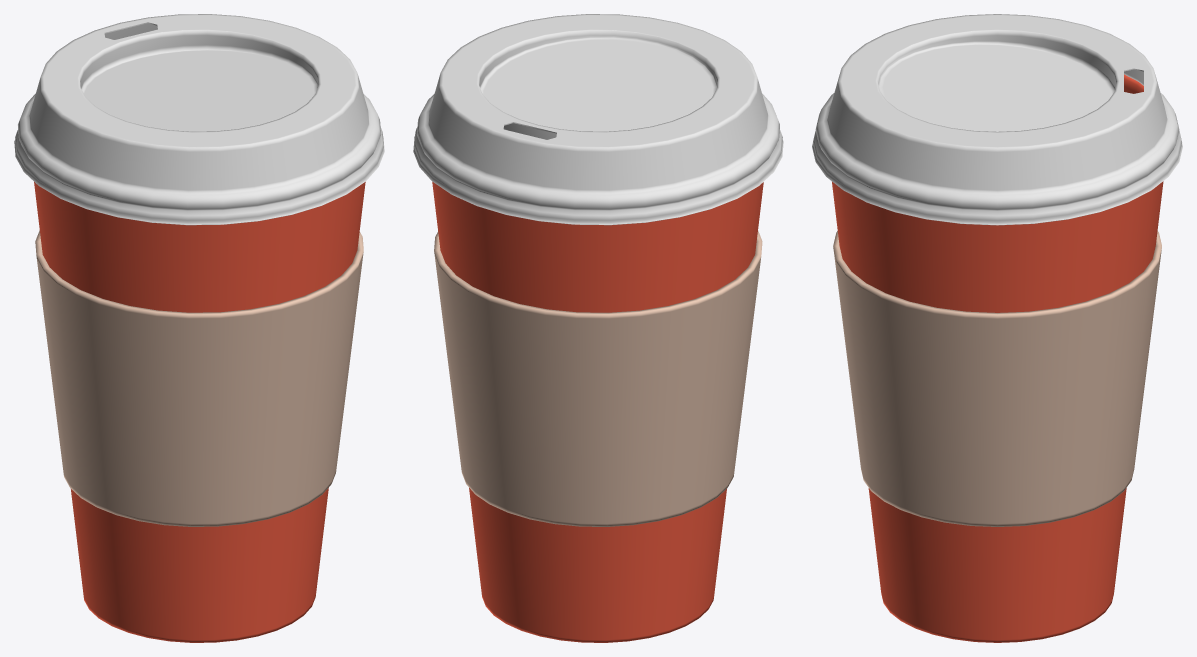
File: coffee cup 1.fbx
3 views of the same model, side by side, from view 1: azimuth 30°, elevation 25°; view 2: azimuth 150°, elevation 25°; view 3: azimuth 270°, elevation 25° (orthographic).
Parts seen in each view (by area): view 1: Sleeve, Lid, Cup; view 2: Sleeve, Lid, Cup; view 3: Sleeve, Lid, Cup.
Part boxes in pixels (x1=…): Sleeve: x1=35, y1=230, x2=363, y2=526; Lid: x1=14, y1=14, x2=384, y2=225; Cup: x1=34, y1=182, x2=365, y2=642; Sleeve: x1=434, y1=230, x2=762, y2=526; Lid: x1=413, y1=14, x2=783, y2=225; Cup: x1=432, y1=182, x2=763, y2=642; Sleeve: x1=833, y1=231, x2=1161, y2=526; Lid: x1=812, y1=14, x2=1182, y2=225; Cup: x1=832, y1=74, x2=1163, y2=642.
Bounding box in the file's own units: 319 × 319 × 486.
